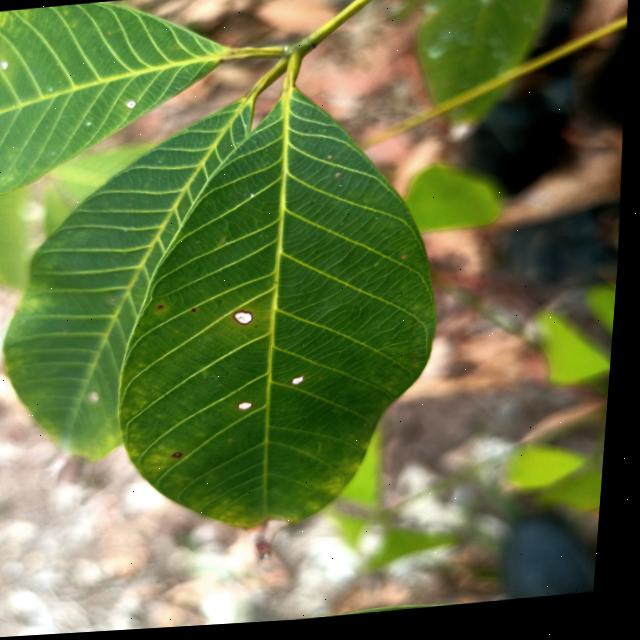Colletotrichum: (237, 313, 258, 329), (243, 404, 258, 413), (295, 380, 309, 389), (127, 102, 137, 111), (178, 454, 189, 460), (196, 311, 200, 314)
